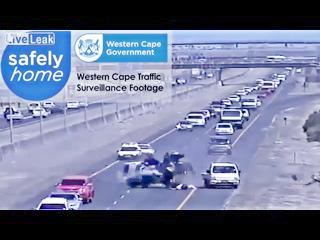Car: (146, 151, 199, 191), (123, 158, 165, 185), (203, 162, 242, 189), (58, 174, 96, 201), (47, 188, 84, 210), (207, 136, 233, 155), (117, 142, 142, 160), (37, 198, 68, 211), (219, 110, 242, 127), (3, 106, 23, 121), (186, 113, 206, 127), (215, 123, 234, 135), (31, 107, 51, 118), (176, 120, 196, 131), (137, 143, 155, 155), (239, 97, 257, 109), (193, 109, 211, 120), (225, 103, 243, 113), (260, 80, 276, 91), (209, 103, 223, 114), (28, 102, 41, 113), (78, 97, 89, 107), (67, 100, 79, 109), (43, 101, 56, 109), (228, 93, 239, 102), (220, 99, 232, 107), (241, 109, 250, 119), (258, 91, 268, 99), (236, 89, 247, 96), (277, 74, 286, 82), (176, 78, 186, 85), (254, 98, 262, 106), (272, 79, 280, 87), (250, 85, 259, 92), (256, 78, 264, 85), (244, 86, 251, 93), (284, 69, 291, 76), (271, 73, 278, 79), (206, 73, 214, 78), (195, 75, 203, 80), (285, 67, 292, 72), (171, 80, 176, 86), (296, 68, 302, 73)
Major Accident: (122, 151, 200, 192)
